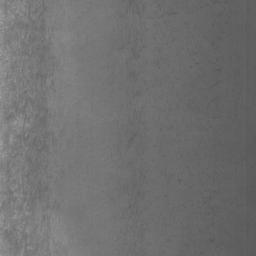Silk spot: (0, 0, 64, 256), (111, 72, 148, 157), (116, 162, 147, 241), (118, 32, 175, 65), (200, 0, 232, 49), (152, 4, 178, 25), (119, 0, 145, 18)
